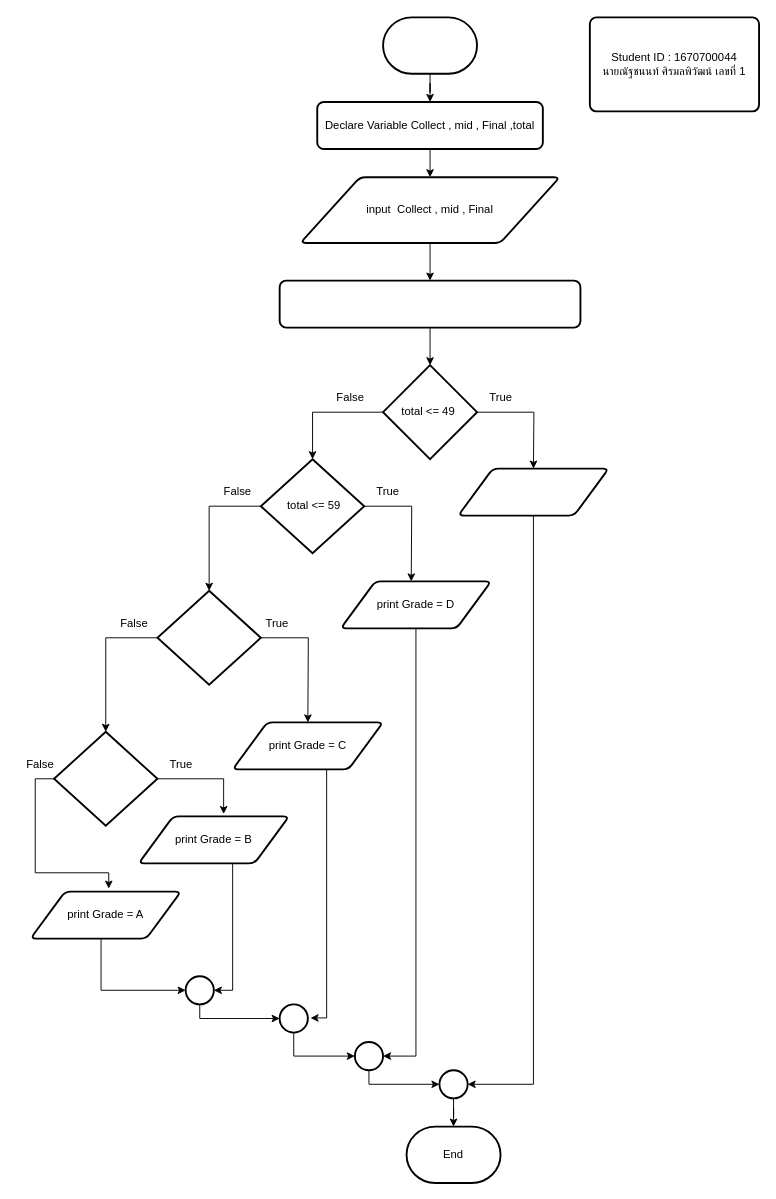
The diagram is 776 pixels wide and 1199 high, and some of its shapes have lost their labels. The centre of each missing label's shape, as x and y in pixels:
Compute Collect = Collect + mid + Final: point 429,303
print Grade = F: point 533,491
Start: point 430,45
total <= 69: point 208,637
total <= 79: point 105,778
